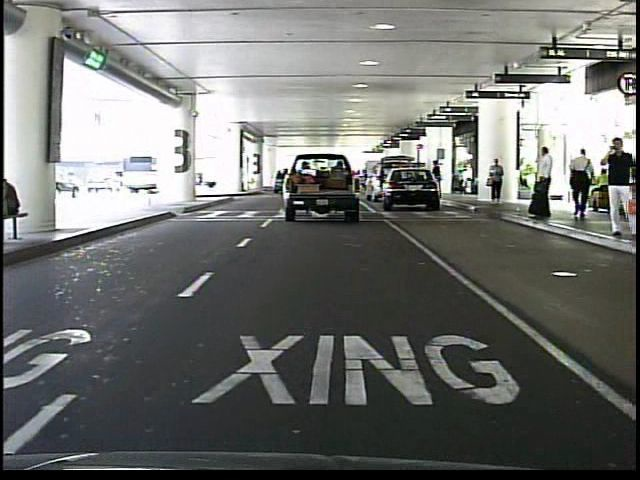person: (599, 137, 637, 245), (529, 143, 557, 223), (567, 144, 596, 221), (485, 156, 509, 210), (431, 158, 447, 202)
